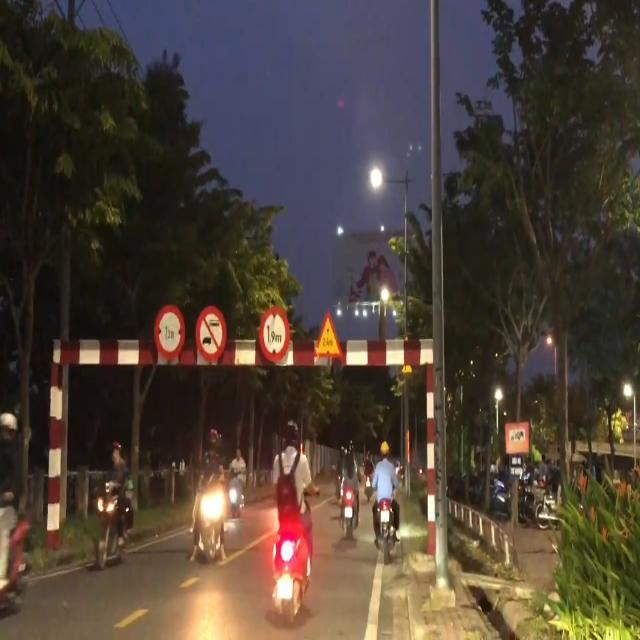Bien bao cam xe oto khach va xe oto tai: (191, 302, 228, 364)
Bien bao chieu cao tinh khong thuc te: (311, 304, 344, 366)
Bien bao han che chieu cao: (256, 300, 295, 374)
